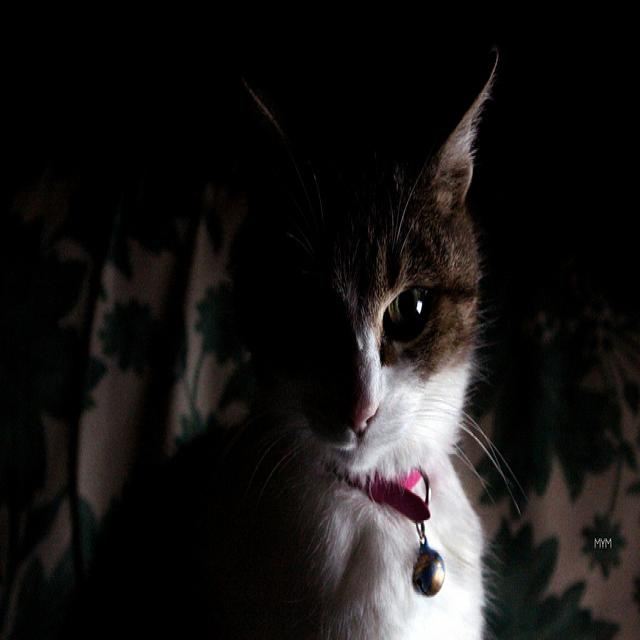Cat: (85, 64, 533, 640)
